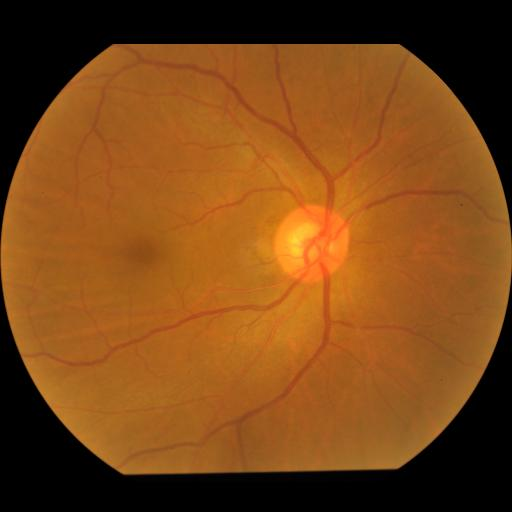Optic Cup: (289, 221, 332, 265)
Optic Disc: (273, 204, 349, 283)
